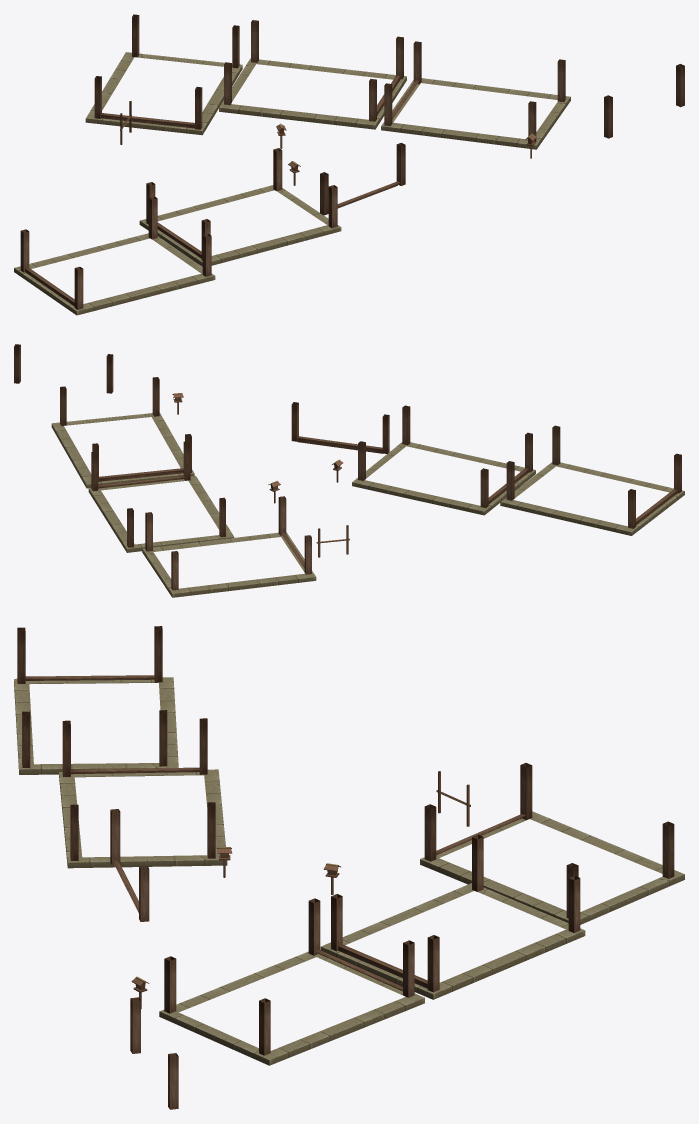
File: Area_09_19.fbx
3 renders of one model, top to bottom at view 1: azimuth 30°, elevation 25°; view 2: azimuth 150°, elevation 25°; view 3: azimuth 270°, elevation 25°, orthographic. The views are drawn at different scales.
Parts seen in each view (by area): view 1: Area_09_19; view 2: Area_09_19; view 3: Area_09_19.
Boxes of the visible parts, x1,y1,x2,y2 form: Area_09_19: (14,14,684,315); Area_09_19: (14,344,684,597); Area_09_19: (14,626,684,1109).
Size of the model in its own units: 6847 by 436 by 4488.
